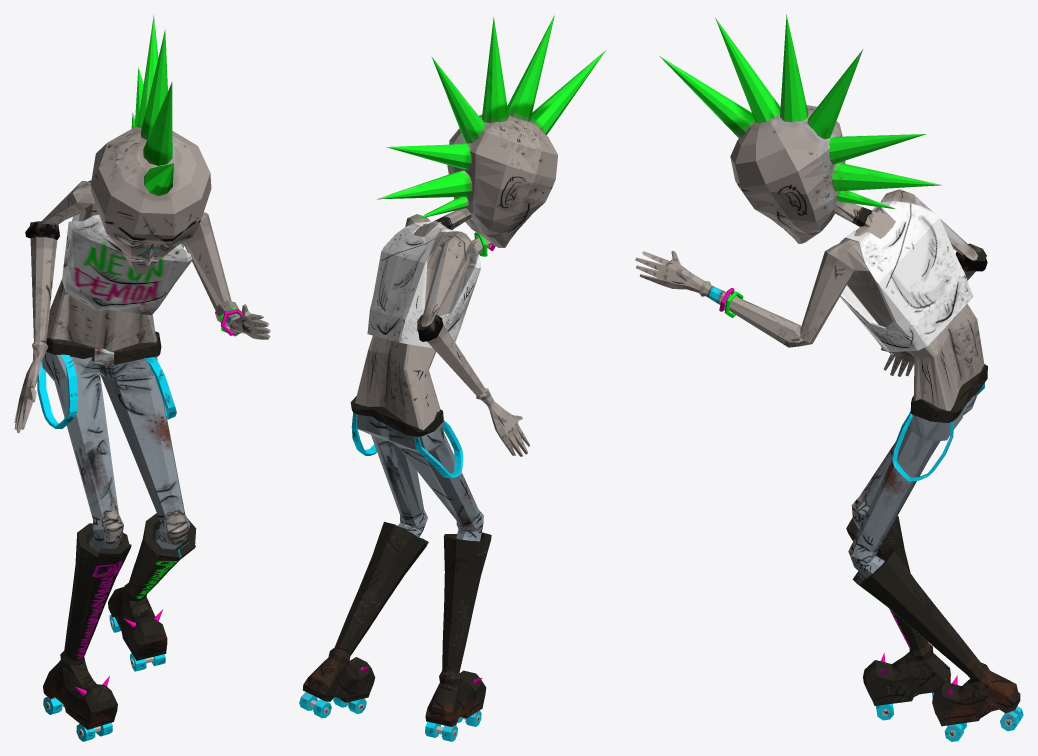
Rendered from punkAnimation_000007.obj.
3 views of the same model, side by side, from view 1: azimuth 30°, elevation 25°; view 2: azimuth 150°, elevation 25°; view 3: azimuth 270°, elevation 25° (orthographic). The views are drawn at different scales.
Parts seen in each view (by area): view 1: Cube.004_Cube.003; view 2: Cube.004_Cube.003; view 3: Cube.004_Cube.003.
Part boxes in pixels (box(x1,y1,x2,y2)): Cube.004_Cube.003: box(14, 14, 270, 741); Cube.004_Cube.003: box(299, 15, 605, 741); Cube.004_Cube.003: box(635, 14, 1023, 741).
Bounding box in the file's own units: 1.82 × 6.85 × 3.4.
